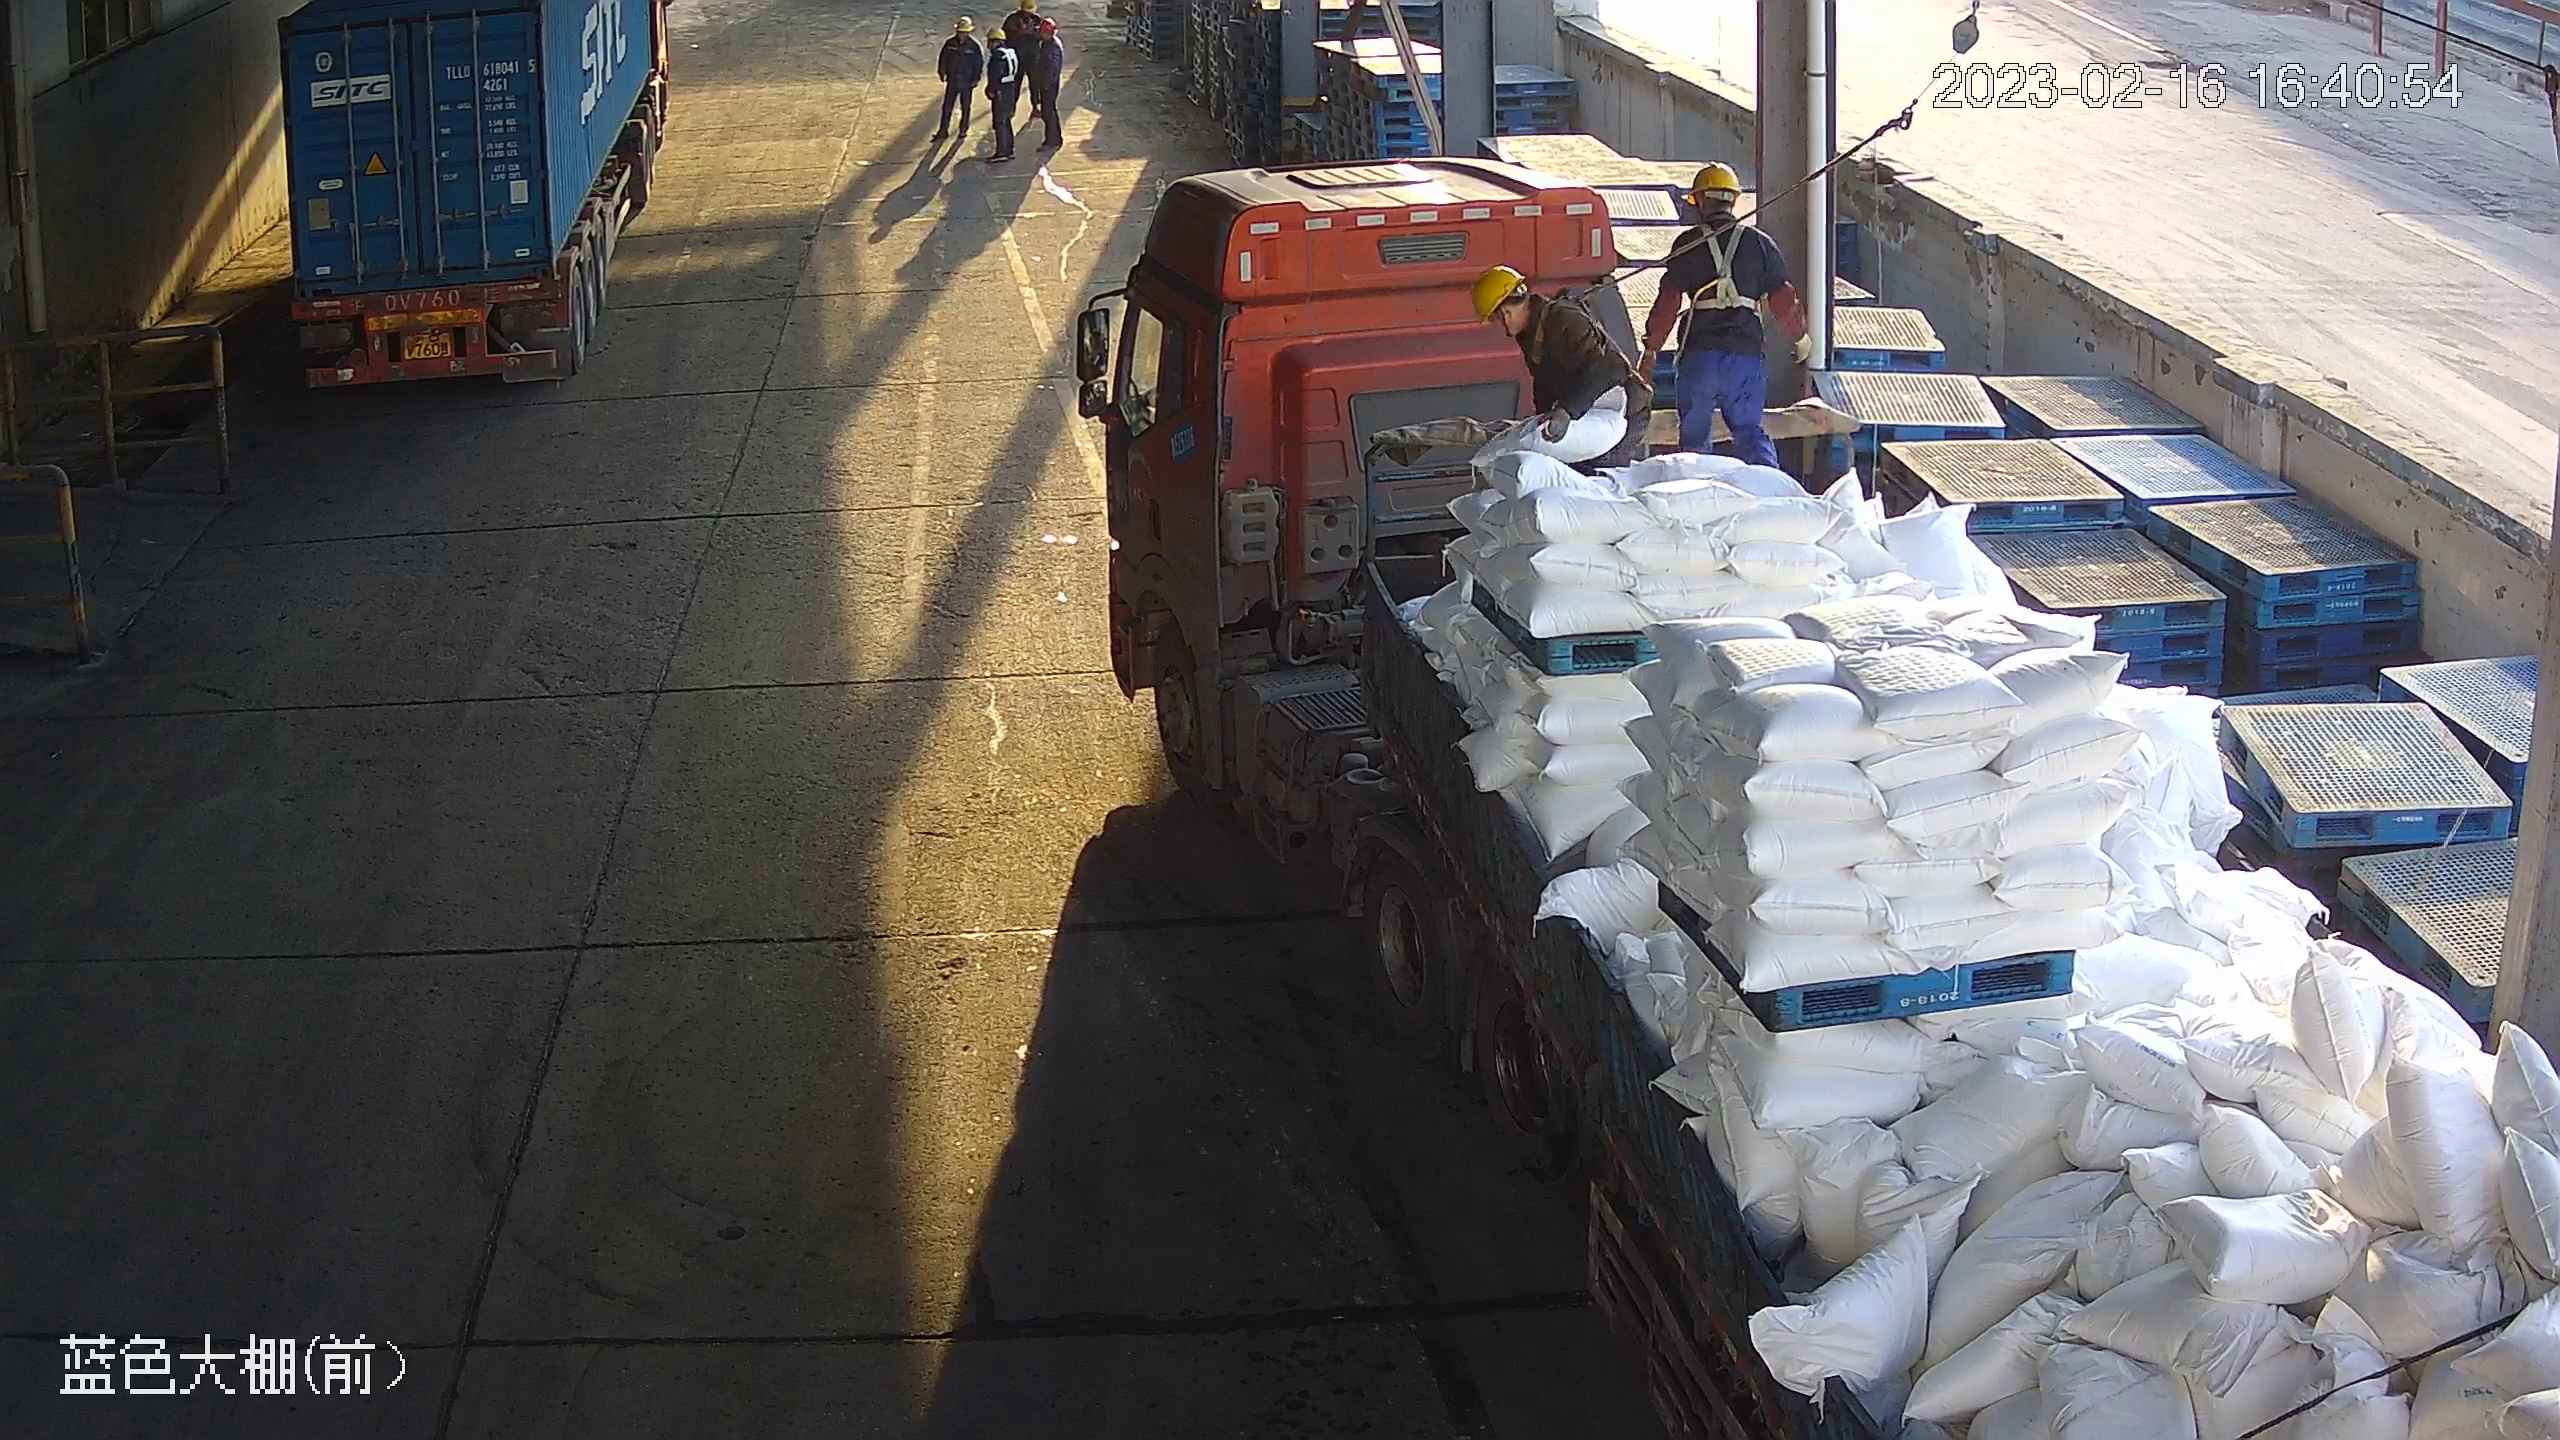belt: (1681, 220, 1760, 324)
head: (1656, 161, 1796, 304), (1471, 266, 1620, 385), (940, 14, 982, 71), (988, 30, 1018, 81), (1037, 16, 1063, 64), (1007, 1, 1038, 34)
helmet: (1470, 265, 1527, 328), (1687, 162, 1741, 203), (954, 15, 975, 32), (1038, 16, 1058, 29), (987, 28, 1006, 39), (1021, 1, 1039, 12)
people: (1641, 163, 1812, 474), (1469, 262, 1653, 475), (930, 14, 984, 141), (986, 27, 1021, 165), (1004, 1, 1041, 119), (1036, 16, 1065, 153)
truck: (1071, 152, 2560, 1440), (274, 1, 675, 390)
